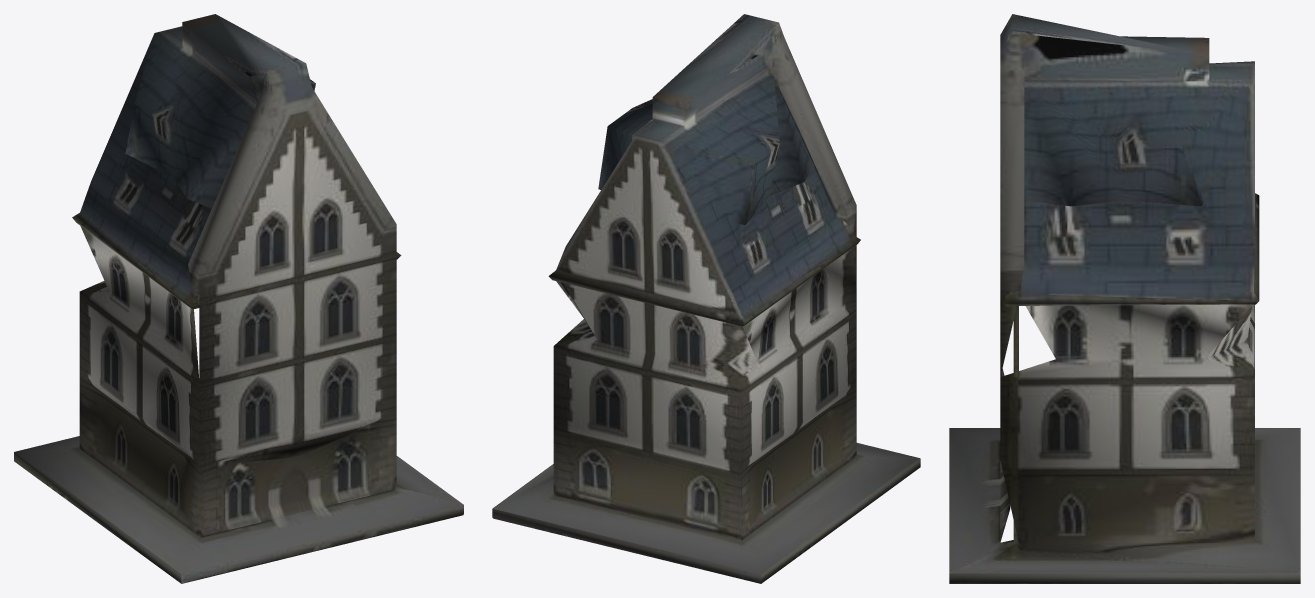
The model's file is house-5.glb.
3 renders of one model, left to right at view 1: azimuth 30°, elevation 25°; view 2: azimuth 150°, elevation 25°; view 3: azimuth 270°, elevation 25°, orthographic. The views are drawn at different scales.
Visible parts, largest first — view 1: tripo_node_25795839-6ed3-4353-8372-2f6b9; view 2: tripo_node_25795839-6ed3-4353-8372-2f6b9; view 3: tripo_node_25795839-6ed3-4353-8372-2f6b9.
Part boxes in pixels (x1,y1,x2,y2): tripo_node_25795839-6ed3-4353-8372-2f6b9: (14,14,463,583); tripo_node_25795839-6ed3-4353-8372-2f6b9: (492,14,920,583); tripo_node_25795839-6ed3-4353-8372-2f6b9: (949,14,1300,583).
Size of the model in its own units: 14.15 by 22 by 14.41.
Materials: 1 (1 with a texture image).
